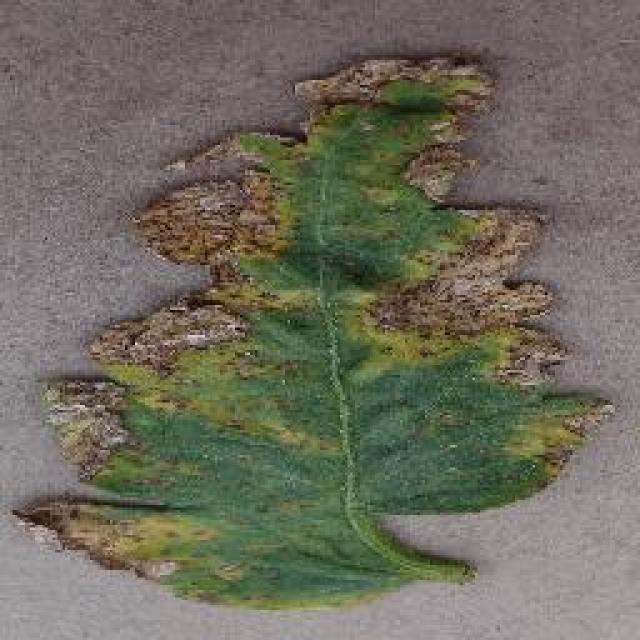Tom_Bacterial_spot: (112, 152, 318, 420), (348, 201, 578, 404), (22, 375, 242, 583), (270, 40, 500, 212)
